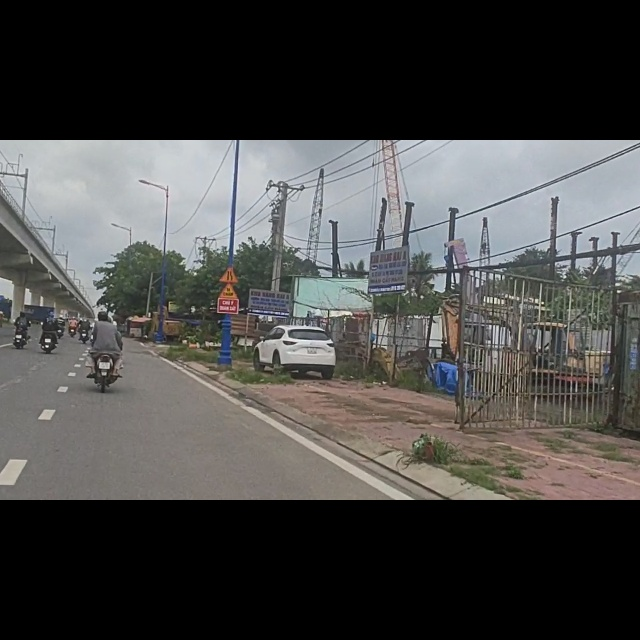bien_nguy_hiem: (219, 254, 240, 283), (219, 224, 240, 252)
